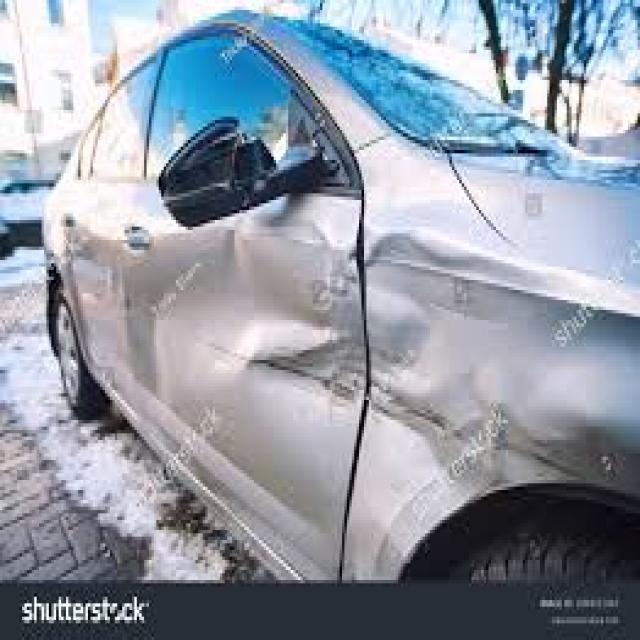damaged-door: (140, 34, 356, 580)
